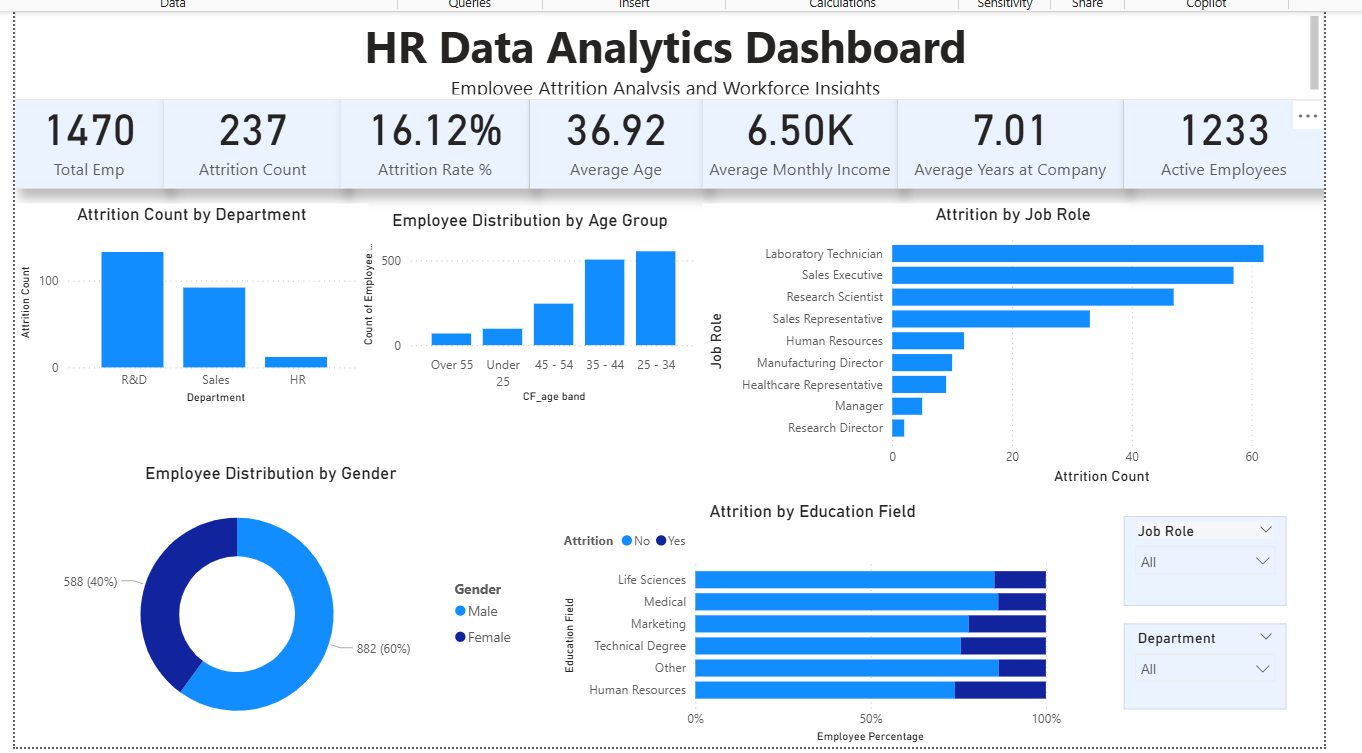

The dashboard page shown, as its layout file describes it:
{"tool":"powerbi","page":{"name":"Workforce Overview","canvas":[1280,720],"ordinal":0},"visuals":[{"type":"card","fields":{"Values":["HR Data.Total Emp"]},"box":[0,72.7,145.5,101.5],"z":0},{"type":"card","fields":{"Values":["HR Data.Attrition Count"]},"box":[145.5,72.7,174.3,101.5],"z":1000},{"type":"card","fields":{"Values":["HR Data.Attrition Rate %"]},"box":[319.7,72.7,183.9,101.5],"z":2000},{"type":"card","fields":{"Values":["HR Data.Average Age"]},"box":[503.6,72.7,168.8,101.5],"z":3000},{"type":"card","fields":{"Values":["HR Data.Average Monthly Income"]},"box":[672.4,72.7,190.7,101.5],"z":4000},{"type":"card","fields":{"Values":["HR Data.Average Years at Company"]},"box":[863.1,72.7,220.9,101.5],"z":5000},{"type":"columnChart","title":"Attrition Count by Department","fields":{"Category":["HR Data.Department"],"Y":["HR Data.Attrition Count"]},"box":[0,188,345.8,200.3],"z":6000},{"type":"clusteredBarChart","title":"Attrition by Job Role","fields":{"Category":["HR Data.Job Role"],"Y":["HR Data.Attrition Count"]},"box":[672.4,188,607.9,279.9],"z":7000},{"type":"columnChart","title":"Employee Distribution by Age Group","fields":{"Category":["HR Data.CF_age band"],"Y":["Count(HR Data.Employee Number)"]},"box":[334.8,194.9,337.6,193.5],"z":8000},{"type":"donutChart","title":"Employee Distribution by Gender","fields":{"Series":["HR Data.Gender"],"Y":["CountNonNull(HR Data.Attrition)"],"Category":["HR Data.Gender"]},"box":[0,441.9,500.9,278.6],"z":9000},{"type":"card","fields":{"Values":["HR Data.Active Employees"]},"box":[1084.1,72.7,196.2,101.5],"z":10000},{"type":"textbox","box":[0,0,1280.3,86.4],"z":11000},{"type":"hundredPercentStackedBarChart","title":"Attrition by Education Field","fields":{"Category":["HR Data.Education Field"],"Series":["HR Data.Attrition"],"Y":["CountNonNull(HR Data.Employee Number)"]},"box":[532.4,478.9,496.7,241.5],"z":12000},{"type":"slicer","fields":{"Values":["HR Data.Department"]},"box":[1084.1,599.7,159.2,83.7],"z":13000},{"type":"slicer","fields":{"Values":["HR Data.Job Role"]},"box":[1084.1,494,159.2,87.8],"z":14000}]}

Visuals, with their boxes on the page's 1280x720 design canvas (x1, y1, x2, y2). These are canvas units, not pixel positions in the 1362x753 screenshot, which may show the page scaled, cropped or inside an application window:
card - HR Data.Total Emp: pyautogui.locateOnScreen(0, 73, 146, 174)
card - HR Data.Attrition Count: pyautogui.locateOnScreen(146, 73, 320, 174)
card - HR Data.Attrition Rate %: pyautogui.locateOnScreen(320, 73, 504, 174)
card - HR Data.Average Age: pyautogui.locateOnScreen(504, 73, 672, 174)
card - HR Data.Average Monthly Income: pyautogui.locateOnScreen(672, 73, 863, 174)
card - HR Data.Average Years at Company: pyautogui.locateOnScreen(863, 73, 1084, 174)
"Attrition Count by Department" columnChart: pyautogui.locateOnScreen(0, 188, 346, 388)
"Attrition by Job Role" clusteredBarChart: pyautogui.locateOnScreen(672, 188, 1280, 468)
"Employee Distribution by Age Group" columnChart: pyautogui.locateOnScreen(335, 195, 672, 388)
"Employee Distribution by Gender" donutChart: pyautogui.locateOnScreen(0, 442, 501, 720)
card - HR Data.Active Employees: pyautogui.locateOnScreen(1084, 73, 1280, 174)
textbox: pyautogui.locateOnScreen(0, 0, 1280, 86)
"Attrition by Education Field" hundredPercentStackedBarChart: pyautogui.locateOnScreen(532, 479, 1029, 720)
slicer - HR Data.Department: pyautogui.locateOnScreen(1084, 600, 1243, 683)
slicer - HR Data.Job Role: pyautogui.locateOnScreen(1084, 494, 1243, 582)
